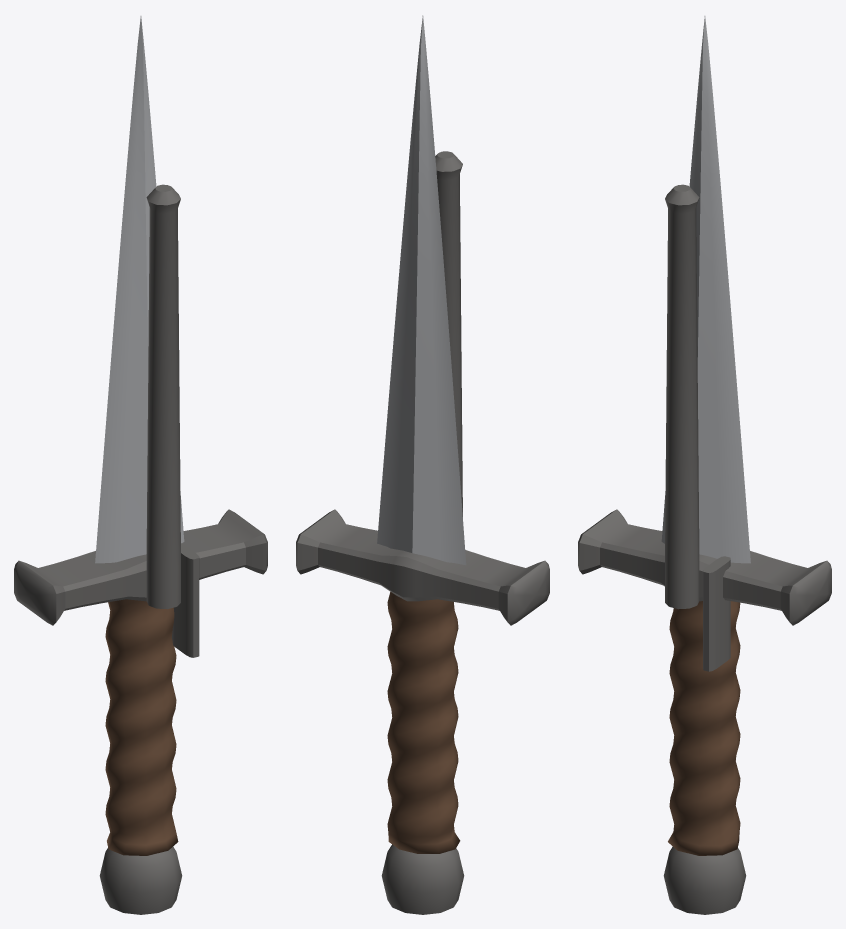
Rendered from dagger-pistol.glb.
3 renders of one model, left to right at view 1: azimuth 30°, elevation 25°; view 2: azimuth 150°, elevation 25°; view 3: azimuth 330°, elevation 25°, orthographic.
Parts seen in each view (by area): view 1: dagger-pistol; view 2: dagger-pistol; view 3: dagger-pistol.
Boxes of the visible parts, left/top/right/bottom form: dagger-pistol: left=14, top=16, right=267, bottom=914; dagger-pistol: left=296, top=15, right=549, bottom=914; dagger-pistol: left=578, top=16, right=831, bottom=914.
Size of the model in its own units: 0.24 by 0.91 by 0.0952.
